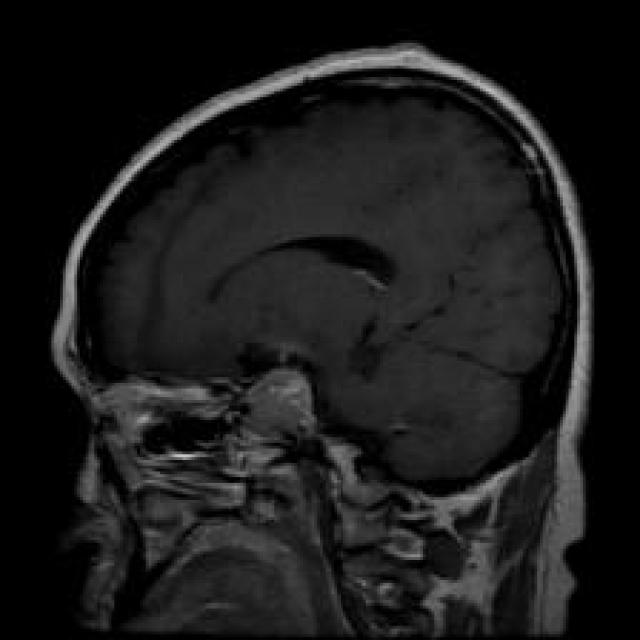pituitary_tumor: (237, 342, 332, 466)
